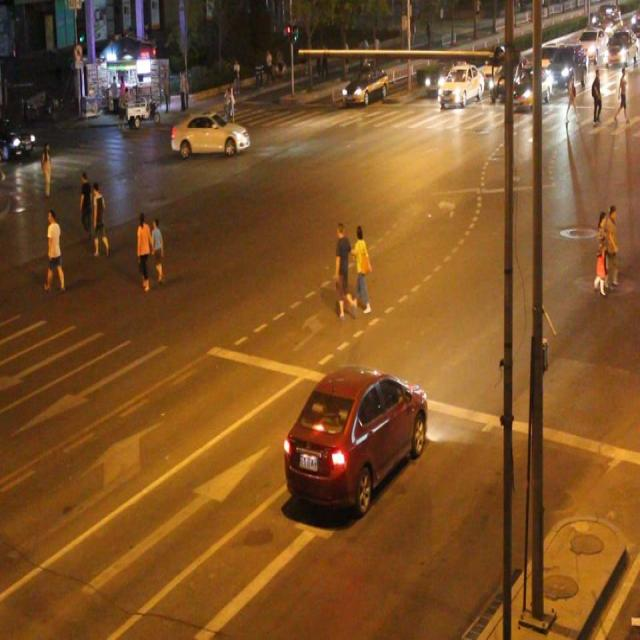car: (283, 363, 427, 513), (170, 111, 250, 158), (436, 64, 483, 108), (341, 61, 386, 106)
